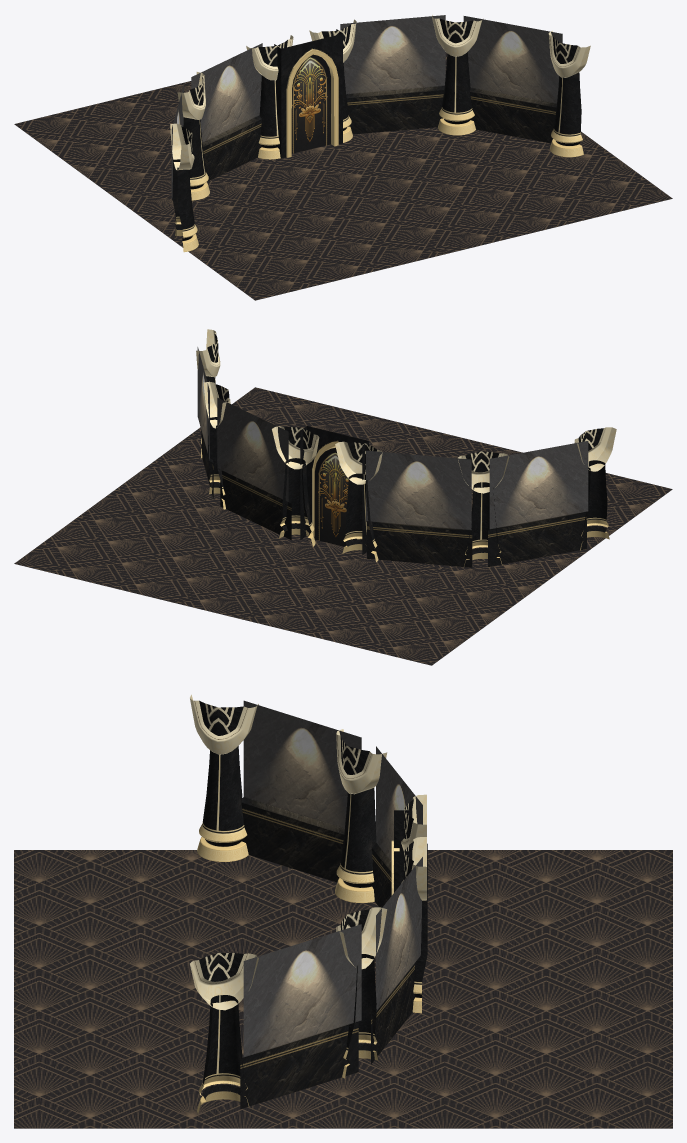
The model's file is background_2.glb.
3 views of the same model, one above another, from view 1: azimuth 30°, elevation 25°; view 2: azimuth 150°, elevation 25°; view 3: azimuth 270°, elevation 25° (orthographic). The views are drawn at different scales.
Visible parts, largest first — view 1: Ground3.001, Wall.001; view 2: Ground3.001, Wall.001; view 3: Ground3.001, Wall.001.
Part boxes in pixels (<box>): Ground3.001: <box>14,52,672,300</box>; Wall.001: <box>170,15,590,252</box>; Ground3.001: <box>14,387,672,665</box>; Wall.001: <box>196,329,616,567</box>; Ground3.001: <box>14,850,672,1128</box>; Wall.001: <box>190,694,427,1113</box>.
Bounding box in the file's own units: 35.37 × 8.73 × 34.65.
2 materials, 2 textured.
